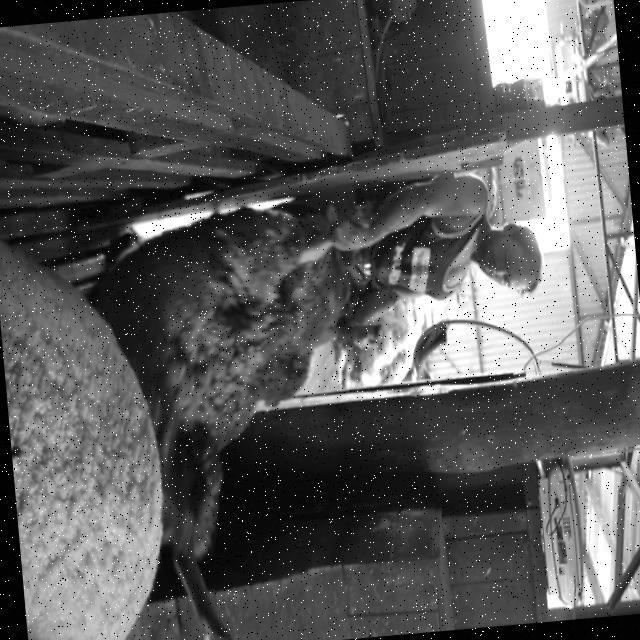sheep: (91, 213, 379, 616), (0, 244, 162, 640)
